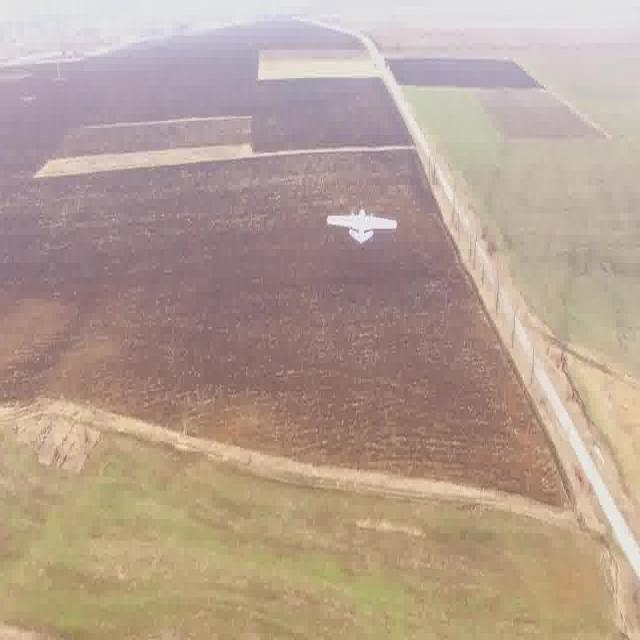iha: (352, 204, 370, 252)
